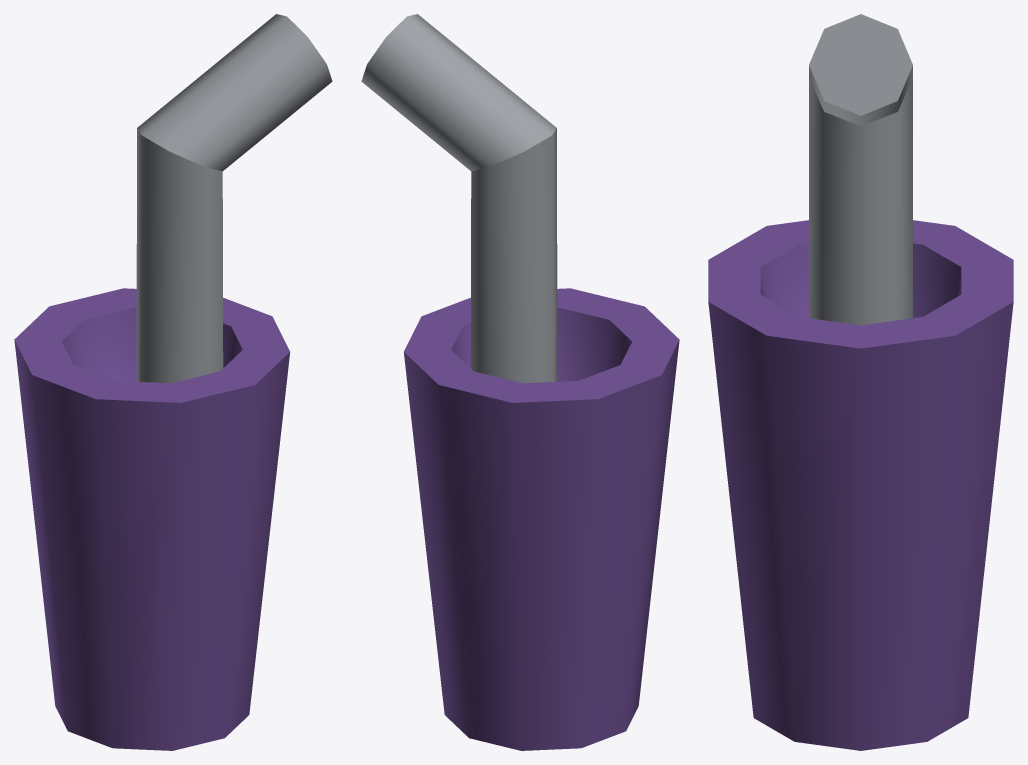
File: glass_05.fbx
The picture shows the model from 3 angles, left to right: view 1: azimuth 30°, elevation 25°; view 2: azimuth 150°, elevation 25°; view 3: azimuth 270°, elevation 25°; orthographic projection. The views are drawn at different scales.
Visible parts, largest first — view 1: glass_05; view 2: glass_05; view 3: glass_05.
Part boxes in pixels (x1,y1,x2,y2): glass_05: [14, 14, 332, 750]; glass_05: [361, 14, 679, 750]; glass_05: [708, 14, 1013, 750].
Size of the model in its own units: 30.03 by 65.54 by 23.7.
